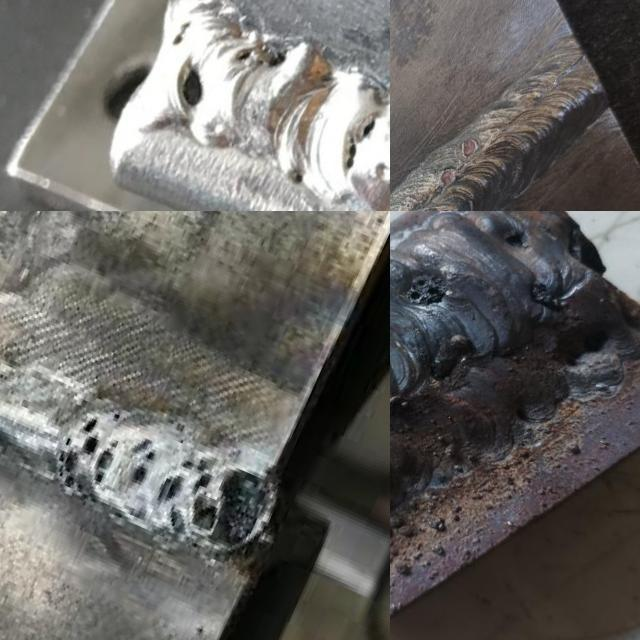defect: (154, 454, 278, 558), (47, 410, 125, 503), (166, 50, 209, 119), (341, 113, 381, 175), (122, 432, 161, 493), (229, 43, 288, 79), (400, 269, 452, 308), (526, 278, 574, 317), (502, 226, 535, 253), (456, 136, 481, 160), (434, 165, 458, 190), (292, 169, 307, 188), (400, 195, 417, 211)
